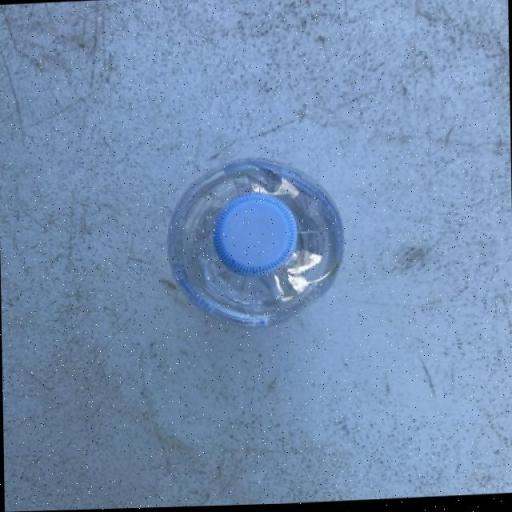plastic: (164, 154, 345, 332)
